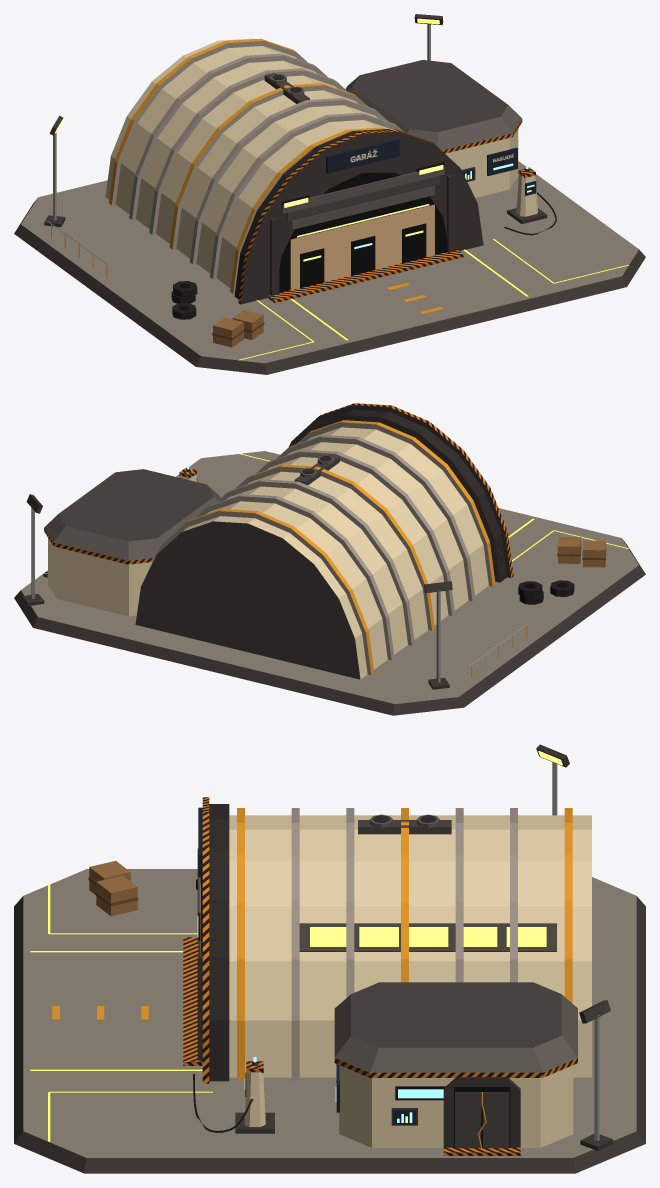
Rendered from budova-garaz.glb.
The picture shows the model from 3 angles, top to bottom: view 1: azimuth 30°, elevation 25°; view 2: azimuth 150°, elevation 25°; view 3: azimuth 270°, elevation 25°; orthographic projection. The views are drawn at different scales.
Parts seen in each view (by area): view 1: budova-garaz; view 2: budova-garaz; view 3: budova-garaz.
Part boxes in pixels (box(x1,y1,x2,y2)): budova-garaz: box(14, 14, 645, 374); budova-garaz: box(14, 403, 645, 715); budova-garaz: box(14, 744, 645, 1173).
Bounding box in the file's own units: 22.5 × 7.16 × 20.25.
24 materials, 2 textured.
